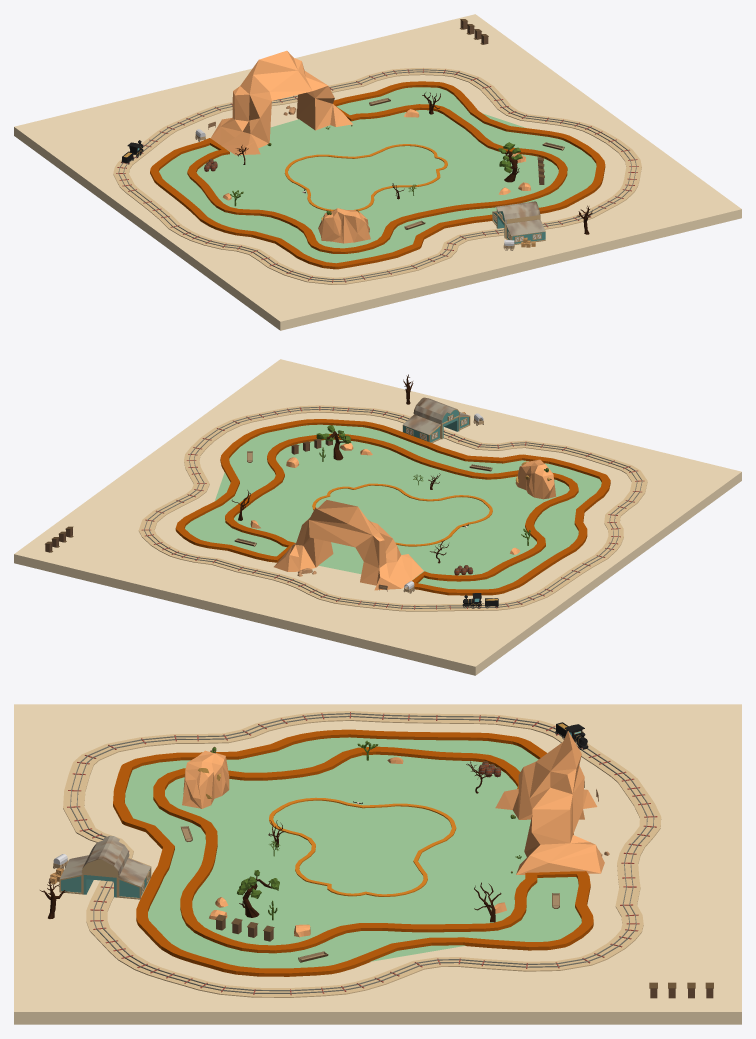
Rendered from D8_park_2.3.fbx.
3 views of the same model, one above another, from view 1: azimuth 30°, elevation 25°; view 2: azimuth 150°, elevation 25°; view 3: azimuth 270°, elevation 25° (orthographic). The views are drawn at different scales.
Visible parts, largest first — view 1: Plane.2270, Tree_Desert_020.002; view 2: Plane.2270, Tree_Desert_020.002; view 3: Plane.2270, Tree_Desert_020.002.
Part boxes in pixels (x1,y1,x2,y2): Plane.2270: (14, 14, 741, 330); Tree_Desert_020.002: (230, 92, 592, 234); Plane.2270: (14, 359, 741, 675); Tree_Desert_020.002: (231, 374, 548, 563); Plane.2270: (14, 704, 741, 1024); Tree_Desert_020.002: (40, 740, 521, 922).
Bounding box in the file's own units: 20850 × 3419 × 20850.
Materials: 17 (11 with a texture image).
